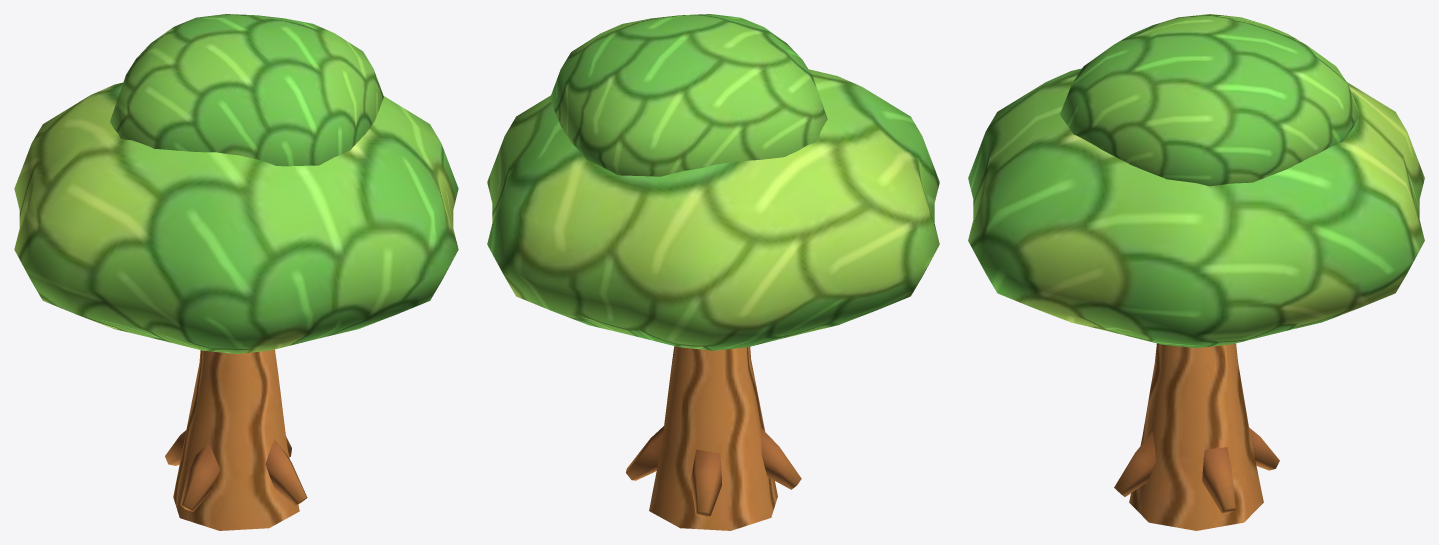
Rendered from shade_tree.glb.
3 views of the same model, side by side, from view 1: azimuth 30°, elevation 25°; view 2: azimuth 150°, elevation 25°; view 3: azimuth 270°, elevation 25° (orthographic). The views are drawn at different scales.
Parts seen in each view (by area): view 1: shade_tree; view 2: shade_tree; view 3: shade_tree.
Boxes of the visible parts, x1,y1,x2,y2 form: shade_tree: (14, 14, 458, 530); shade_tree: (487, 14, 939, 530); shade_tree: (968, 14, 1424, 530).
Size of the model in its own units: 7.42 by 7.8 by 6.78.
Materials: 2 (2 with a texture image).
